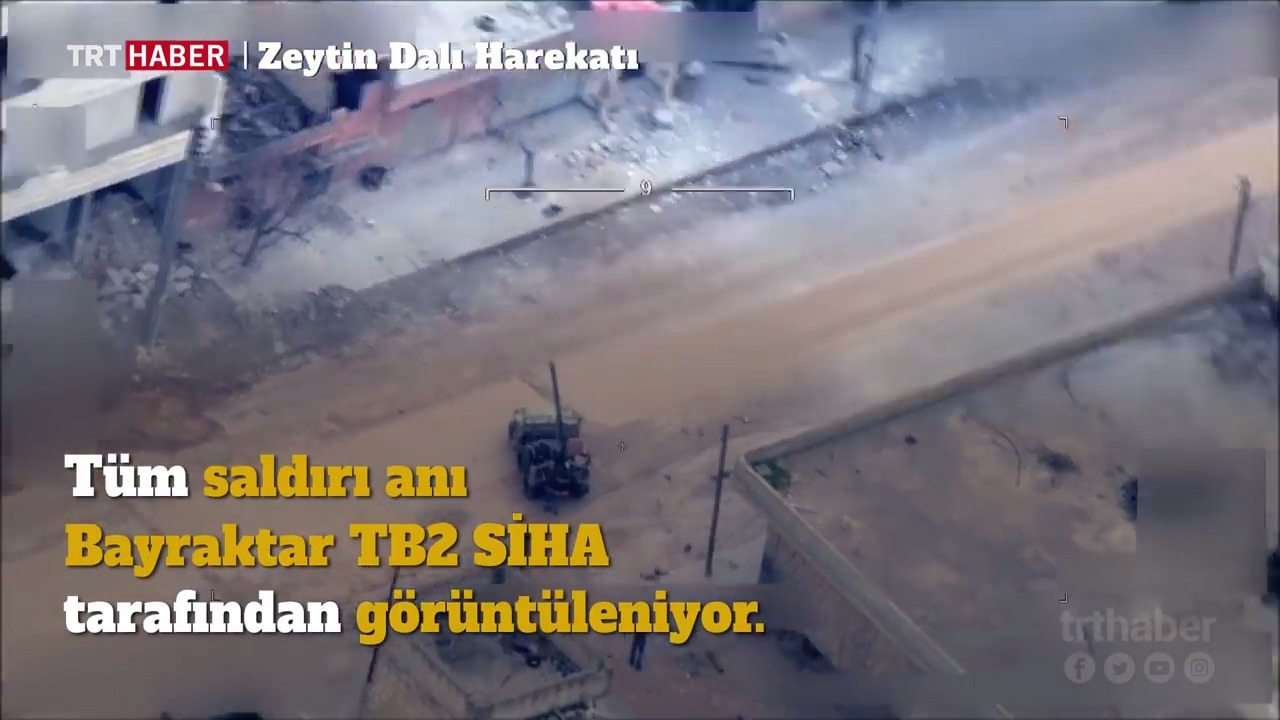arac: (495, 345, 602, 516)
